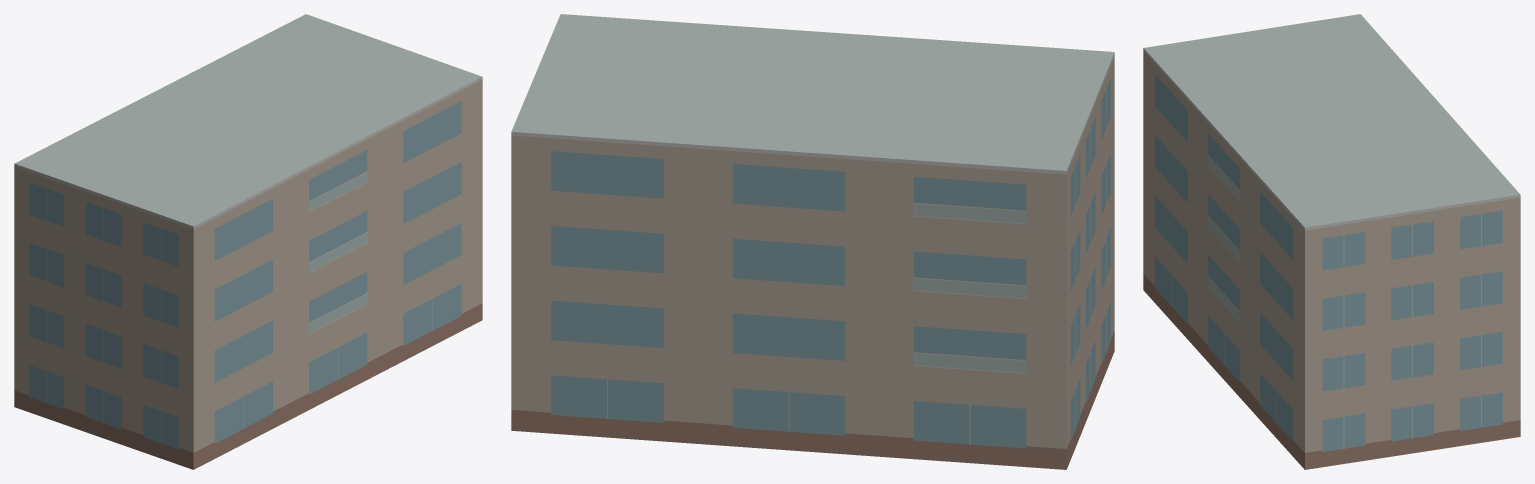
The model's file is survey-upis-32950027.glb.
3 renders of one model, left to right at view 1: azimuth 30°, elevation 25°; view 2: azimuth 150°, elevation 25°; view 3: azimuth 270°, elevation 25°, orthographic. The views are drawn at different scales.
Visible parts, largest first — view 1: survey-upis-32950027.tmp; view 2: survey-upis-32950027.tmp; view 3: survey-upis-32950027.tmp.
Boxes of the visible parts, x1,y1,x2,y2 form: survey-upis-32950027.tmp: (14, 14, 482, 469); survey-upis-32950027.tmp: (511, 14, 1114, 469); survey-upis-32950027.tmp: (1143, 14, 1520, 469).
Bounding box in the file's own units: 37.37 × 19.75 × 27.87.
